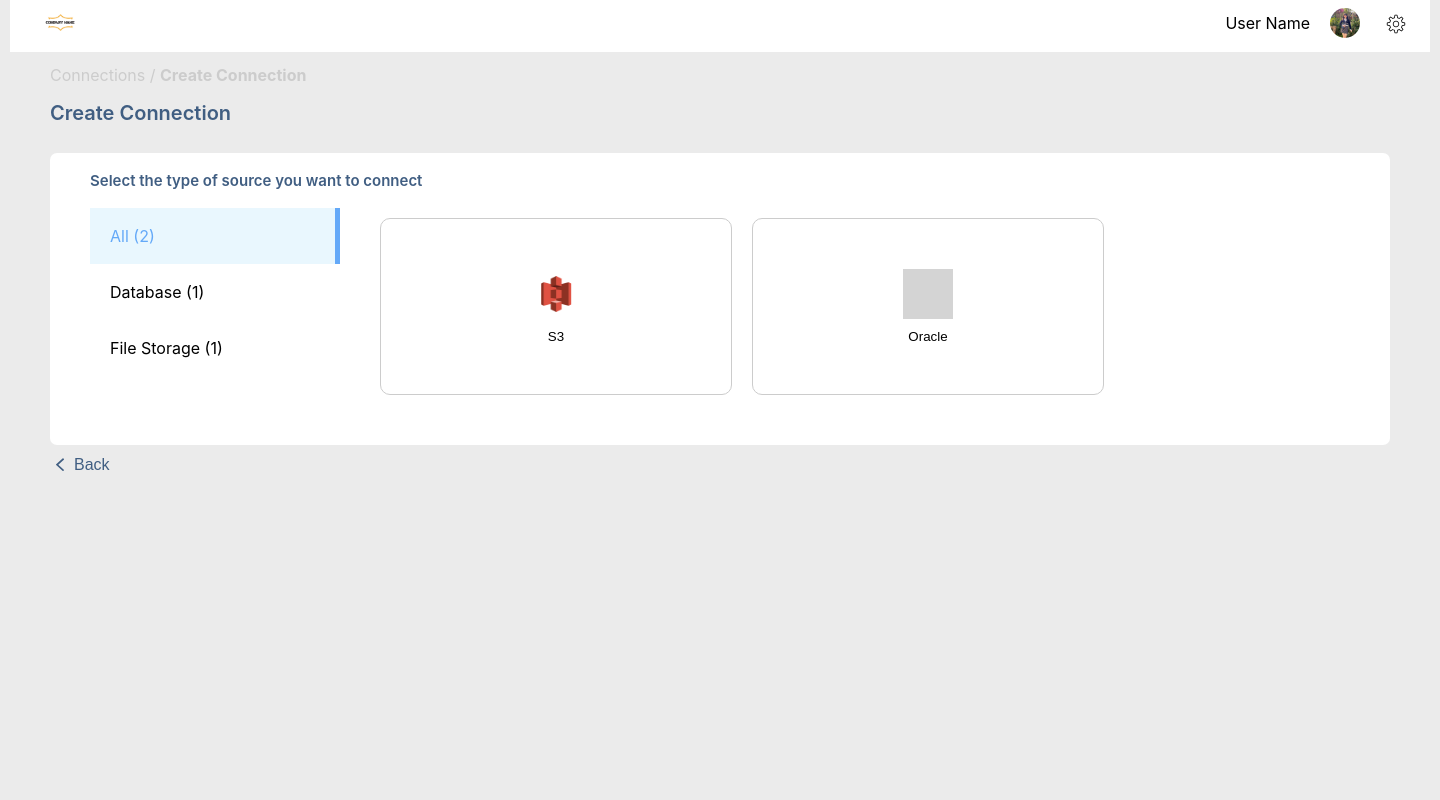
Test: connection page › cannot create connection when field is null
Click the button "S3". click: (556, 306)
box: [380,218,732,395]
(page scrolled)
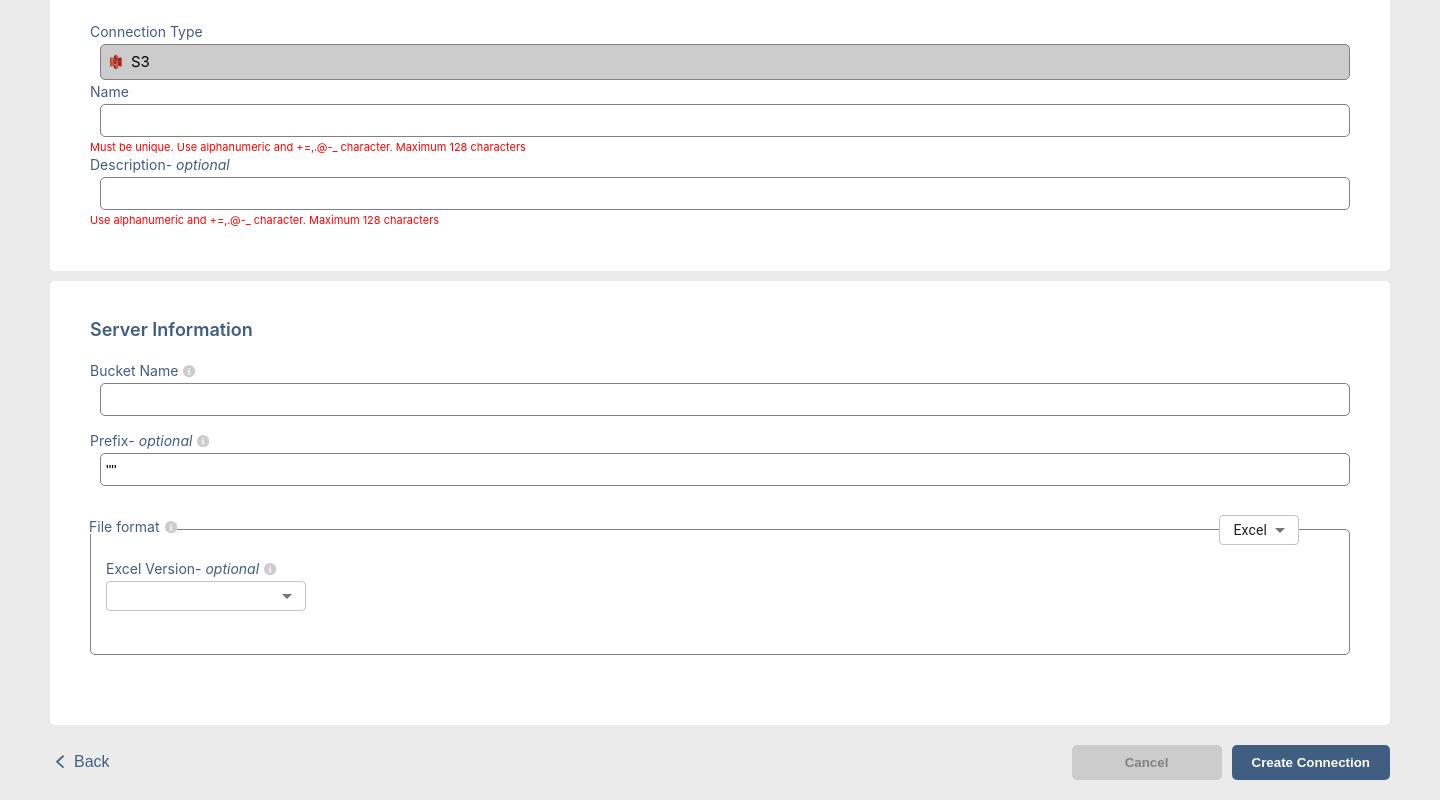
Now the button "Create Connection" is disabled, box [1232,745,1390,780]
